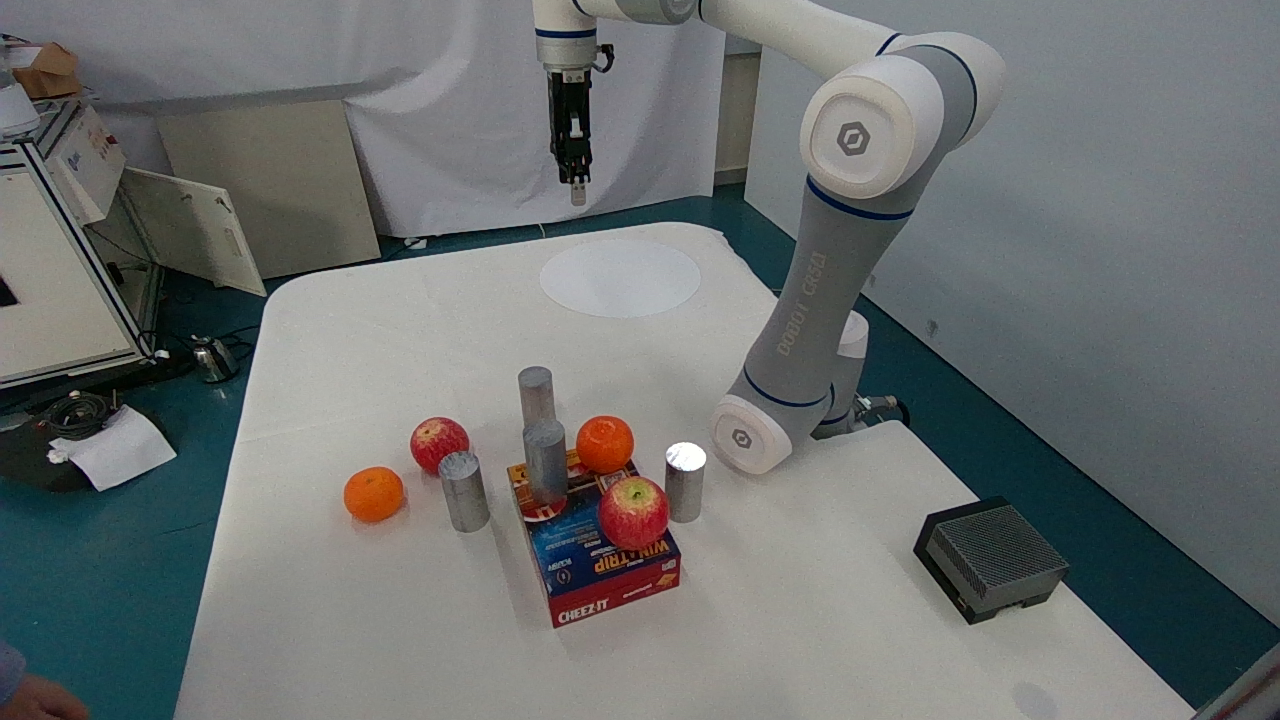apple: (592, 465, 677, 560), (399, 406, 481, 476)
metal rod: (650, 428, 714, 540), (431, 445, 495, 538), (507, 412, 575, 495), (507, 355, 571, 432)
orange: (339, 453, 424, 546), (566, 401, 644, 474)
